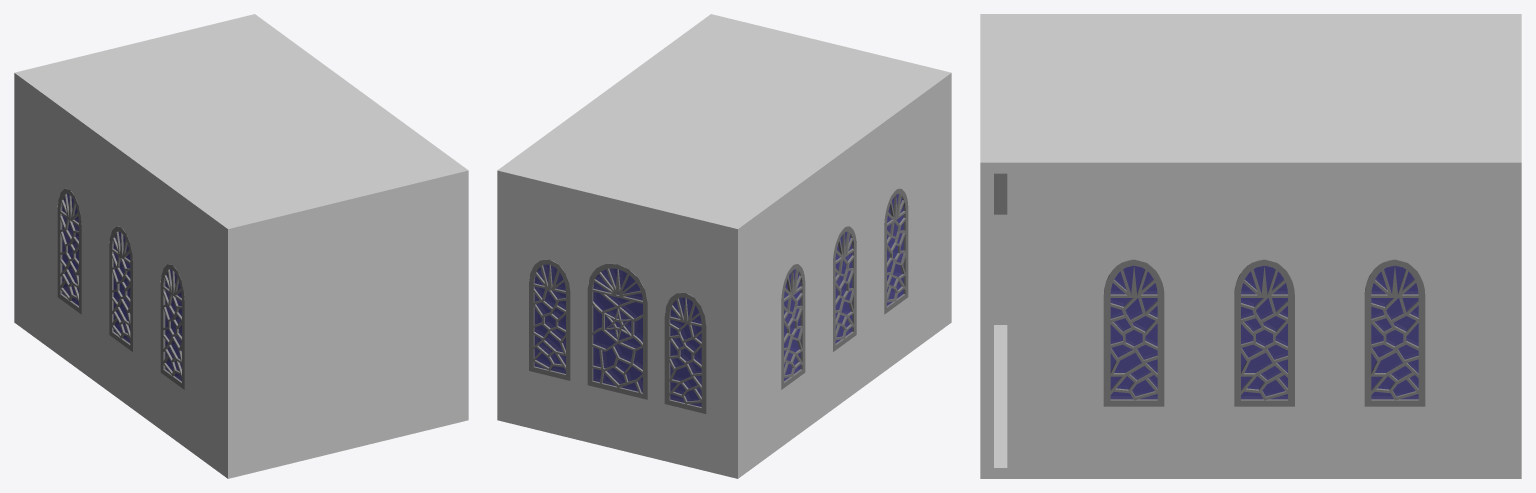
Rendered from project3.fbx.
3 views of the same model, side by side, from view 1: azimuth 30°, elevation 25°; view 2: azimuth 150°, elevation 25°; view 3: azimuth 270°, elevation 25° (orthographic). The views are drawn at different scales.
Parts seen in each view (by area): view 1: 物件_98, 物件_99, 物件_230, 物件_97, 物件_264, 物件_135, 物件_104, 物件_166, 物件_167, 物件_105, 物件_136; view 2: 物件_99, 物件_230, 物件_264, 物件_97, 物件_262, 物件_94, 物件_263, 物件_260, 物件_197, 物件_261, 物件_198, 物件_98 (+6 smaller); view 3: 物件_94, 物件_99, 物件_97, 物件_98, 物件_64, 物件_2, 物件_1, 物件_63, 物件_33, 物件_32, 物件_264, 物件_230 (+1 smaller).
Boxes of the visible parts, x1,y1,x2,y2 form: 物件_98: (222, 179, 468, 470); 物件_99: (14, 14, 468, 237); 物件_230: (19, 85, 222, 465); 物件_97: (14, 314, 468, 478); 物件_264: (14, 81, 19, 317); 物件_135: (112, 231, 130, 340); 物件_104: (163, 269, 181, 378); 物件_166: (60, 194, 78, 302); 物件_167: (57, 188, 81, 314); 物件_105: (160, 264, 184, 389); 物件_136: (109, 226, 132, 351); 物件_99: (497, 14, 951, 237); 物件_230: (743, 85, 946, 465); 物件_264: (497, 180, 743, 470); 物件_97: (497, 314, 951, 478); 物件_262: (592, 268, 642, 393); 物件_94: (497, 179, 506, 413); 物件_263: (587, 263, 647, 399); 物件_260: (664, 292, 706, 413); 物件_197: (533, 265, 565, 370); 物件_261: (669, 298, 701, 404); 物件_198: (529, 259, 570, 380); 物件_98: (946, 81, 951, 317); 物件_94: (1007, 173, 1521, 467); 物件_99: (980, 14, 1521, 173); 物件_97: (980, 325, 1521, 478); 物件_98: (980, 173, 993, 467); 物件_64: (1364, 259, 1425, 406); 物件_2: (1103, 259, 1164, 406); 物件_1: (1110, 266, 1157, 400); 物件_63: (1371, 266, 1418, 400); 物件_33: (1234, 259, 1294, 406); 物件_32: (1241, 266, 1287, 400); 物件_264: (1508, 173, 1521, 467); 物件_230: (994, 214, 1007, 324).
Bounding box in the file's own units: 26 × 40 × 25.78.
